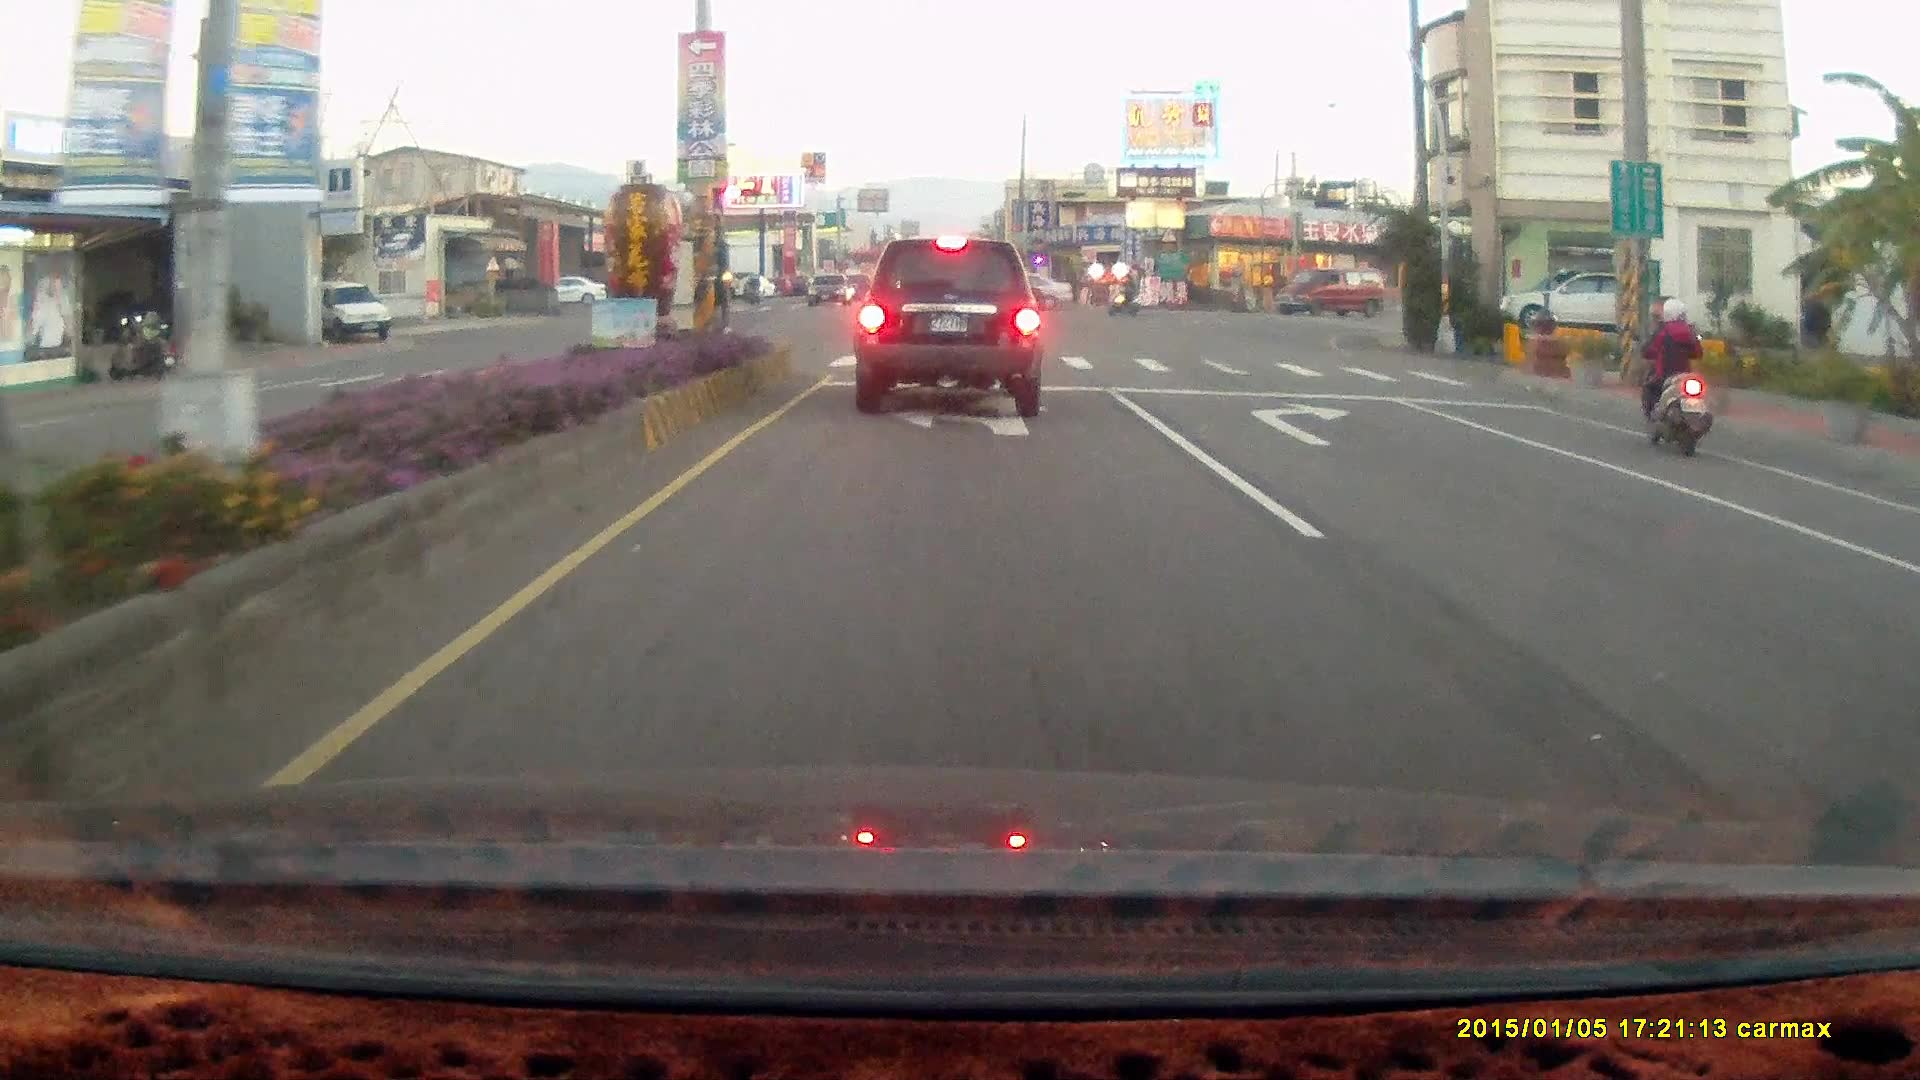rider: (1635, 291, 1712, 455), (1105, 271, 1141, 315)
vehicle: (852, 236, 1044, 416), (1497, 265, 1659, 332), (1896, 493, 1920, 836), (1498, 272, 1628, 333), (1883, 528, 1920, 690), (307, 280, 396, 344), (1275, 264, 1387, 314), (1276, 268, 1380, 316), (961, 272, 1072, 317), (963, 268, 1073, 311)
